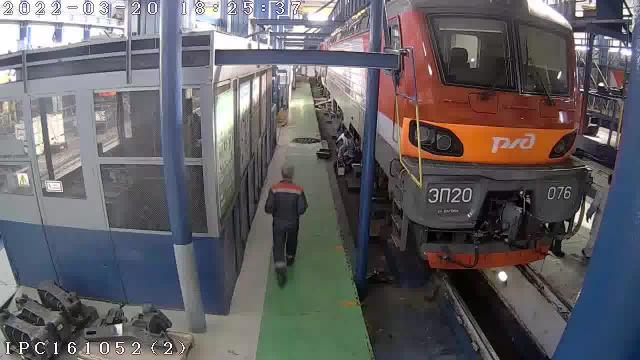person: (265, 164, 307, 286), (582, 189, 608, 258), (337, 131, 353, 158)
train: (376, 0, 591, 268)
